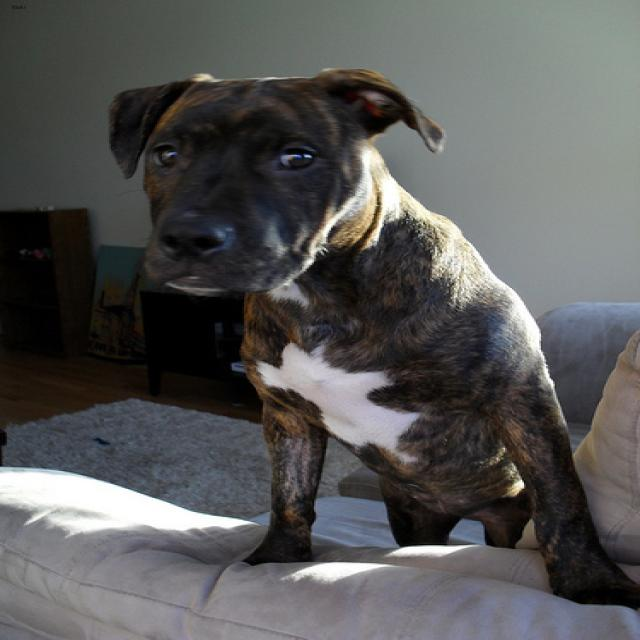dog-american_pit_bull_terrier: (96, 58, 637, 618)
